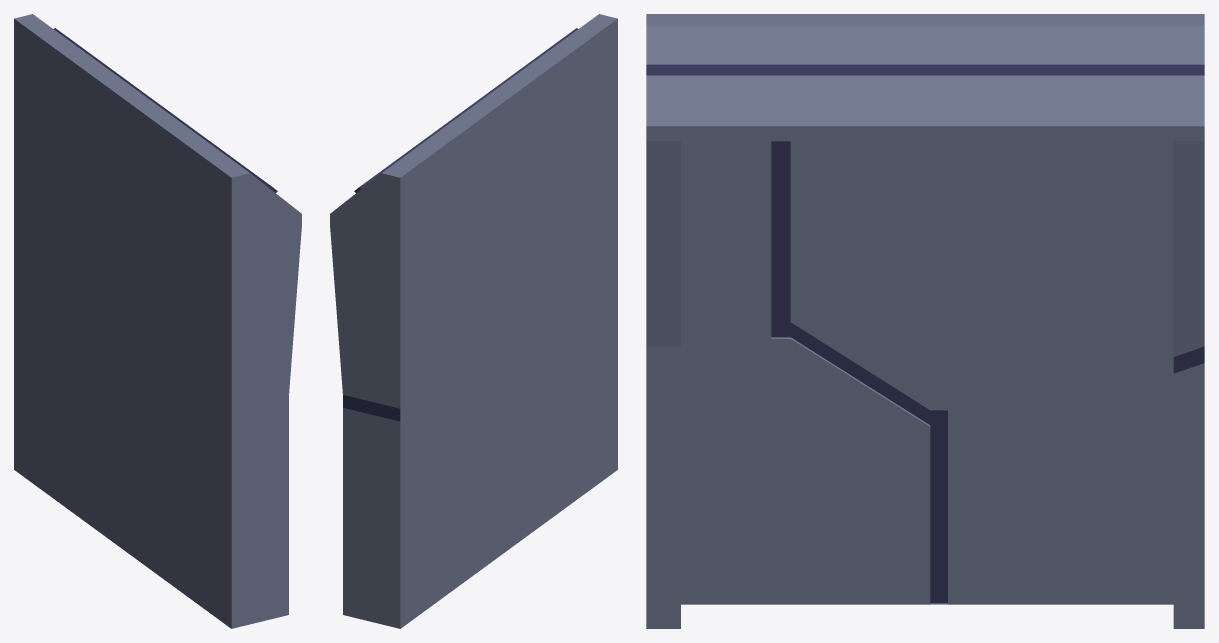
The model's file is porteFuturiste.fbx.
3 renders of one model, left to right at view 1: azimuth 30°, elevation 25°; view 2: azimuth 150°, elevation 25°; view 3: azimuth 270°, elevation 25°, orthographic. The views are drawn at different scales.
Visible parts, largest first — view 1: Cube; view 2: Cube; view 3: Cube.
Boxes of the visible parts, x1,y1,x2,y2 form: Cube: (14,14,301,628); Cube: (330,14,617,628); Cube: (646,14,1204,628).
Size of the model in its own units: 37.39 by 229 by 200.
